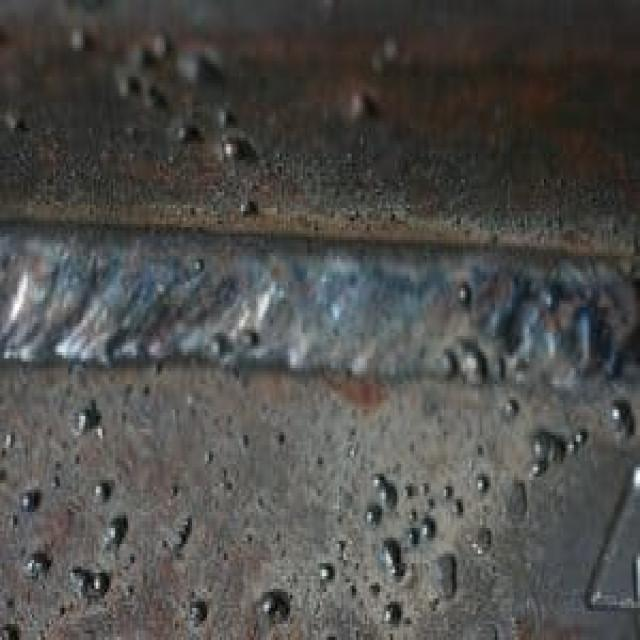Dry Waste: (6, 192, 636, 608)
